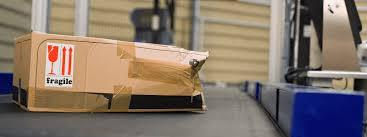damage_box: (11, 29, 210, 114)
